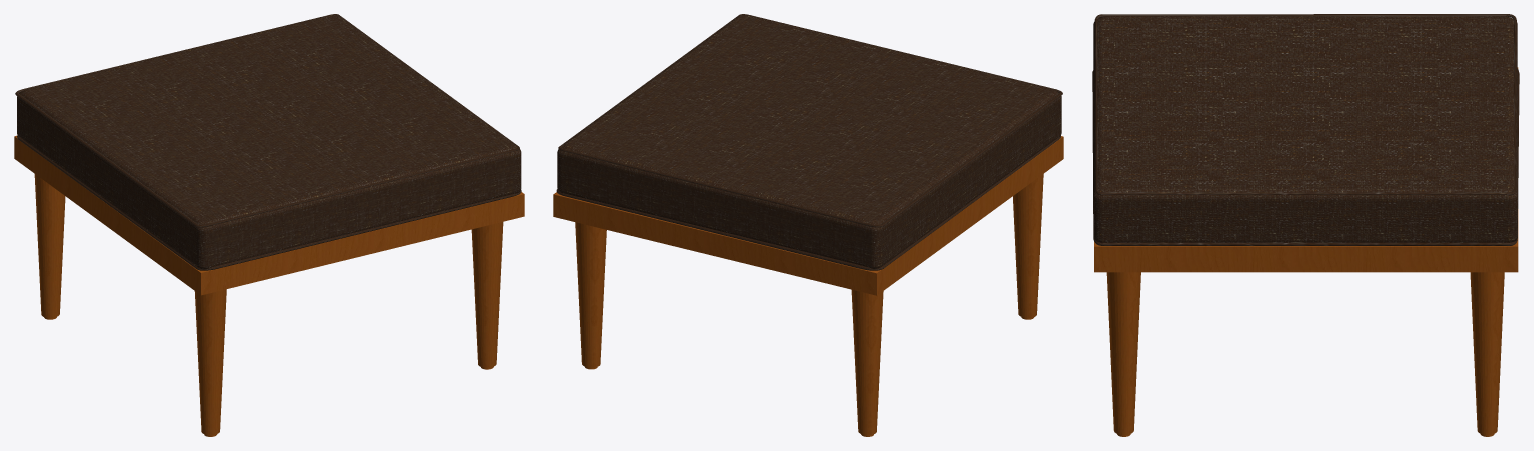
File: ottoman.glb
3 views of the same model, side by side, from view 1: azimuth 30°, elevation 25°; view 2: azimuth 150°, elevation 25°; view 3: azimuth 270°, elevation 25° (orthographic). The views are drawn at different scales.
Parts seen in each view (by area): view 1: Cylinder.005, Plane.004, Cylinder.025, Cylinder.024, Cylinder.022; view 2: Cylinder.005, Plane.004, Cylinder.022, Cylinder.023, Cylinder.025; view 3: Cylinder.005, Plane.004, Cylinder.023, Cylinder.024.
Boxes of the visible parts, bbox=[...] form: Cylinder.005: bbox=[15, 14, 521, 270]; Plane.004: bbox=[14, 135, 524, 295]; Cylinder.025: bbox=[194, 289, 226, 436]; Cylinder.024: bbox=[471, 222, 503, 369]; Cylinder.022: bbox=[34, 174, 65, 319]; Cylinder.005: bbox=[556, 14, 1062, 270]; Plane.004: bbox=[553, 136, 1063, 295]; Cylinder.022: bbox=[851, 290, 883, 436]; Cylinder.023: bbox=[575, 222, 606, 369]; Cylinder.025: bbox=[1013, 174, 1043, 319]; Cylinder.005: bbox=[1092, 14, 1519, 245]; Plane.004: bbox=[1094, 67, 1518, 272]; Cylinder.023: bbox=[1470, 272, 1504, 436]; Cylinder.024: bbox=[1106, 272, 1140, 436].
Bounding box in the file's own units: 0.769 × 0.5038 × 0.7672.
Materials: 2 (2 with a texture image).
